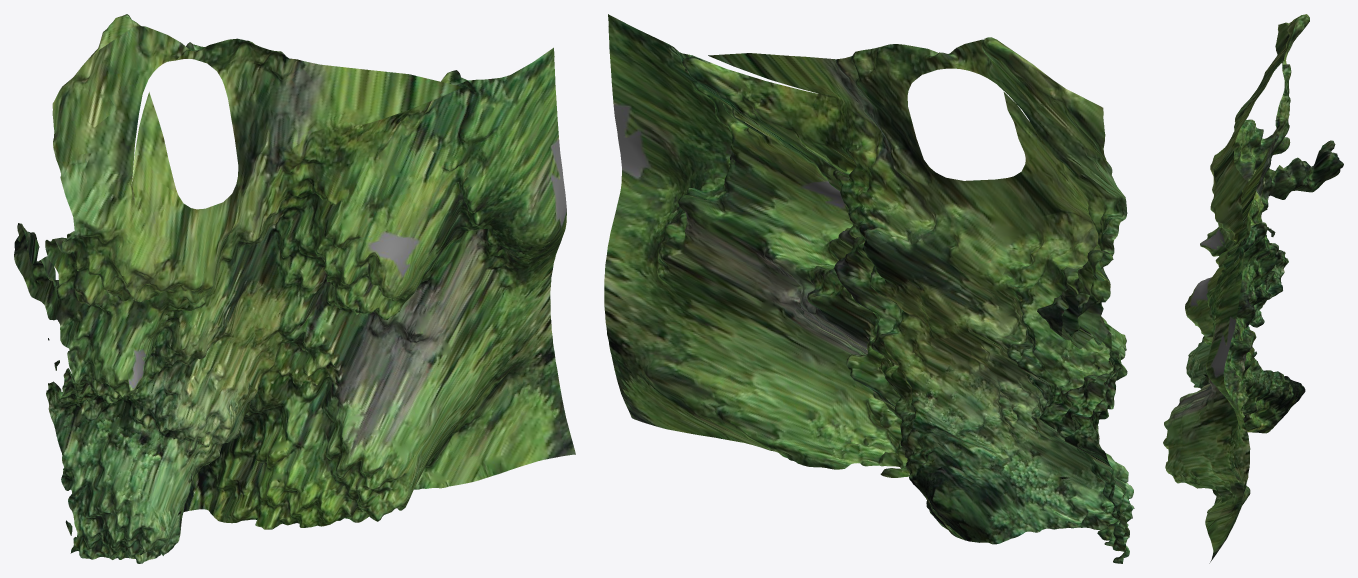
File: Tile_+014_+031.fbx
3 views of the same model, side by side, from view 1: azimuth 30°, elevation 25°; view 2: azimuth 150°, elevation 25°; view 3: azimuth 270°, elevation 25° (orthographic). The views are drawn at different scales.
Visible parts, largest first — view 1: DefaultName; view 2: DefaultName; view 3: DefaultName.
Part boxes in pixels (left/top/right/bottom): DefaultName: left=14, top=14, right=575, bottom=563; DefaultName: left=604, top=14, right=1134, bottom=563; DefaultName: left=1163, top=14, right=1343, bottom=563.
Bounding box in the file's own units: 22.54 × 22.03 × 9.15.
